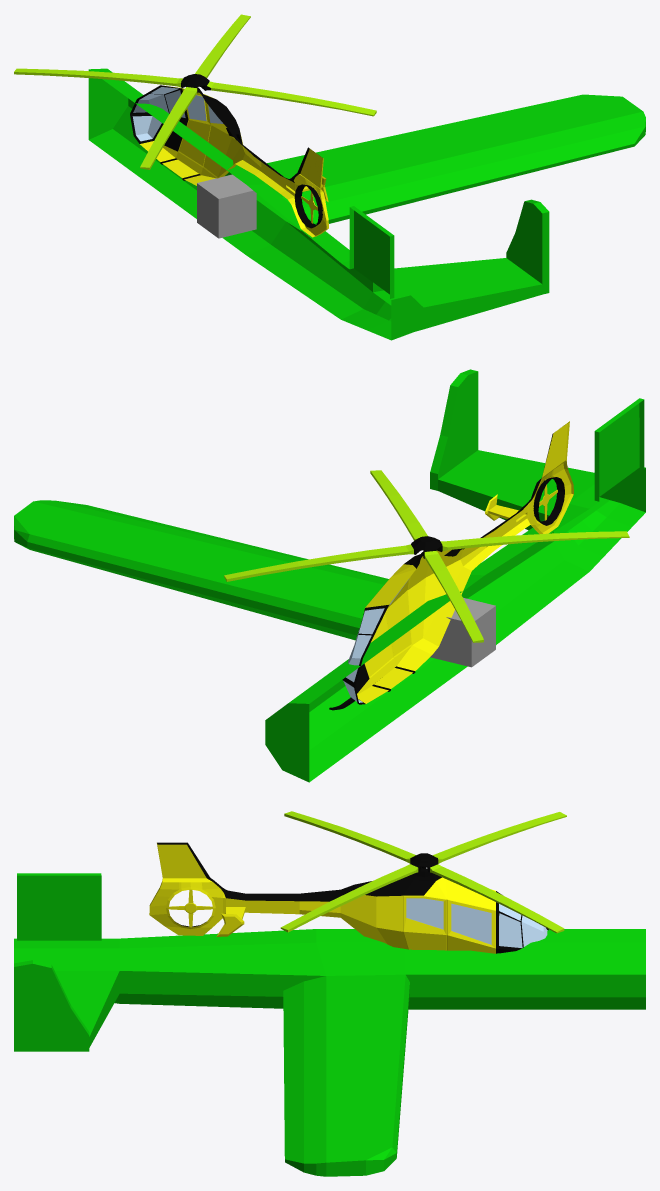
The model's file is MEDIKOPTER117.glb.
3 views of the same model, one above another, from view 1: azimuth 30°, elevation 25°; view 2: azimuth 150°, elevation 25°; view 3: azimuth 270°, elevation 25° (orthographic). The views are drawn at different scales.
Visible parts, largest first — view 1: jet.001, Body, topwings, jet; view 2: jet.001, Body, topwings, jet; view 3: jet.001, Body, topwings.
Boxes of the visible parts, box(x1,y1,x2,y2) form: jet.001: box(88, 68, 645, 340); Body: box(130, 85, 328, 237); topwings: box(14, 14, 376, 169); jet: box(197, 174, 256, 238); jet.001: box(14, 369, 645, 782); Body: box(329, 421, 573, 710); topwings: box(224, 470, 629, 642); jet: box(430, 597, 495, 667); jet.001: box(14, 873, 645, 1176); Body: box(149, 842, 548, 953); topwings: box(280, 811, 566, 933).
Bounding box in the file's own units: 27.51 × 7.77 × 27.76.
1 material, 1 textured.
